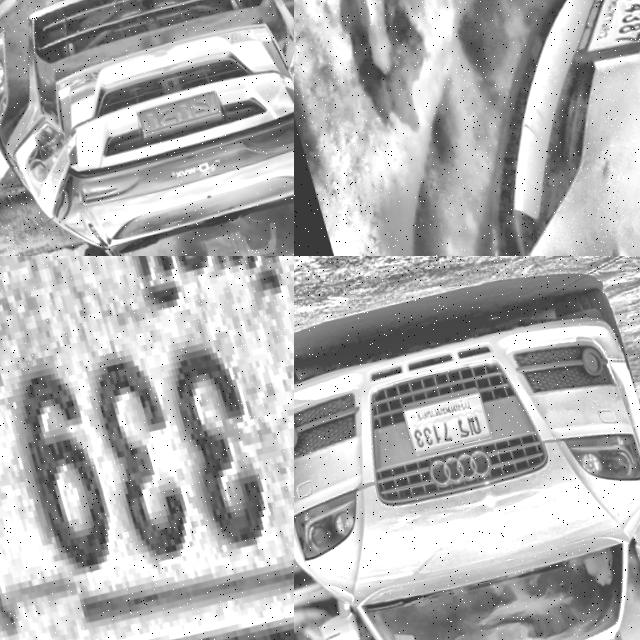license-plate: (0, 256, 294, 640), (393, 390, 493, 463)
